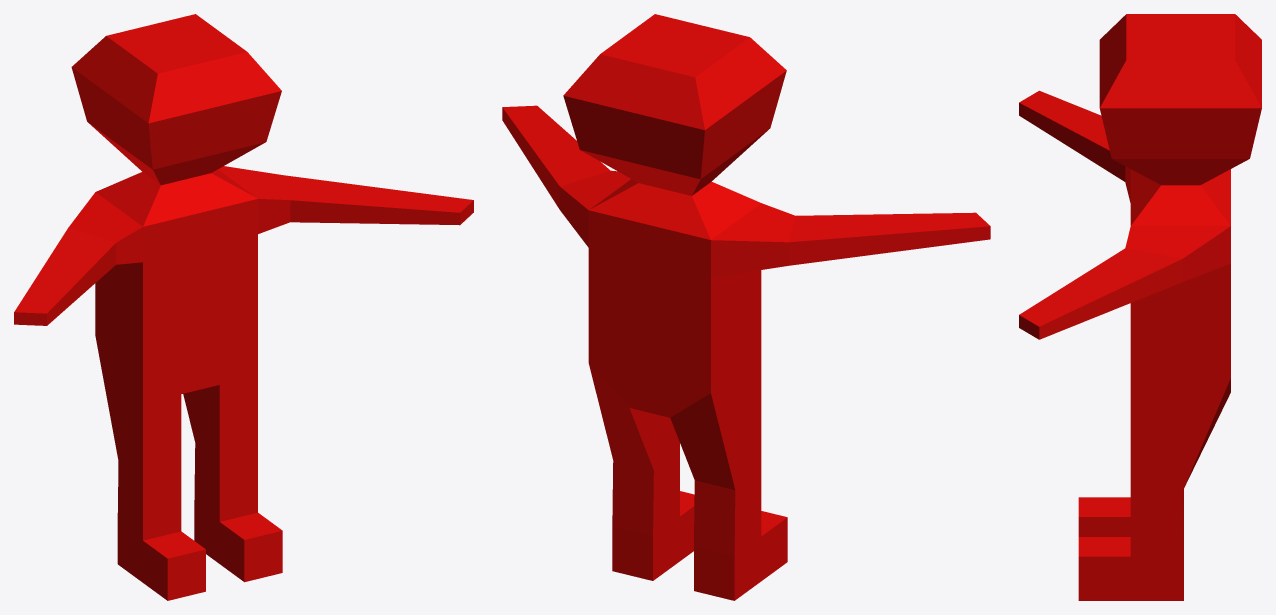
The model's file is robot.glb.
3 renders of one model, left to right at view 1: azimuth 30°, elevation 25°; view 2: azimuth 150°, elevation 25°; view 3: azimuth 270°, elevation 25°, orthographic. The views are drawn at different scales.
Parts seen in each view (by area): view 1: robot; view 2: robot; view 3: robot.
Part boxes in pixels (x1,y1,x2,y2): robot: [14, 14, 473, 600]; robot: [502, 14, 990, 600]; robot: [1019, 14, 1261, 600].
Bounding box in the file's own units: 5.45 × 5.75 × 2.37.
